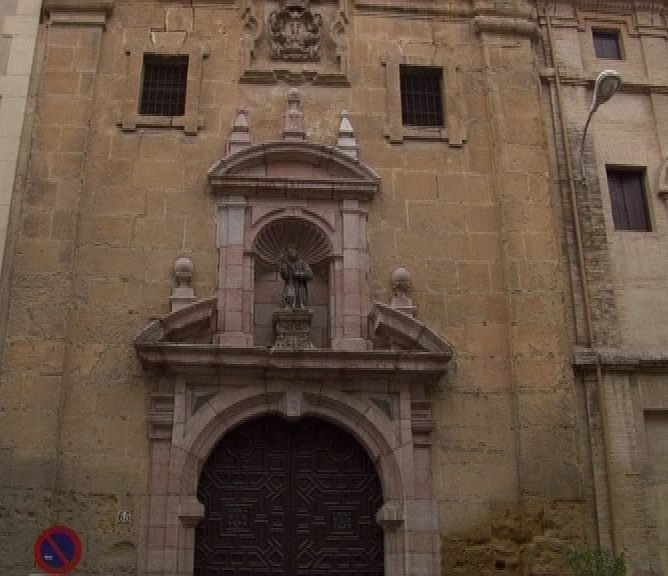arco-medio-punto: (178, 389, 401, 535)
fronton-curvo: (204, 136, 389, 203)
fronton-partido: (131, 294, 459, 381)
